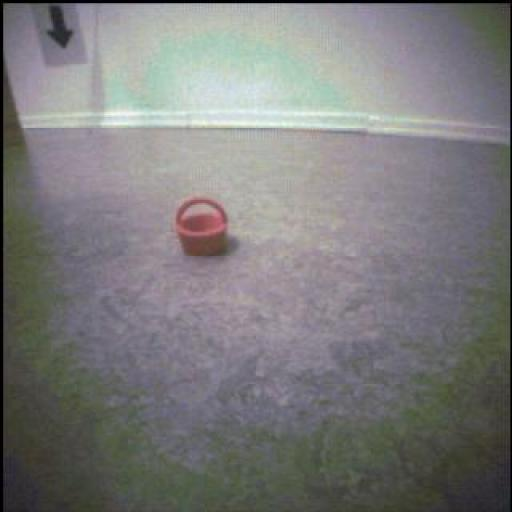Arrow: (48, 7, 75, 49)
Bucket: (174, 195, 231, 257)
